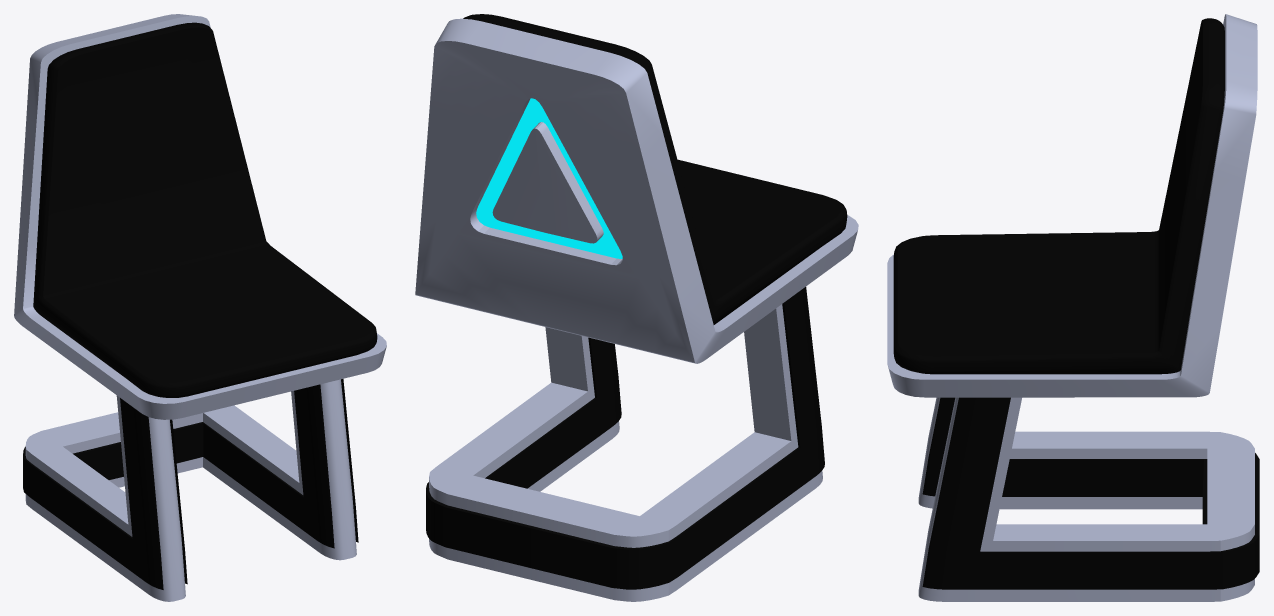
Rendered from chair.glb.
3 renders of one model, left to right at view 1: azimuth 30°, elevation 25°; view 2: azimuth 150°, elevation 25°; view 3: azimuth 270°, elevation 25°, orthographic. The views are drawn at different scales.
Parts seen in each view (by area): view 1: Cube.001, Cube.002, Cube.003, Cube; view 2: Cube, Cube.002, Cube.003, Cube.001; view 3: Cube.001, Cube.003, Cube.002, Cube.
Part boxes in pixels (x1,y1,x2,y2): Cube.001: (33, 22, 377, 397); Cube.002: (25, 379, 356, 601); Cube.003: (23, 379, 358, 589); Cube: (14, 14, 386, 419); Cube: (415, 18, 858, 363); Cube.002: (429, 304, 822, 601); Cube.003: (426, 287, 824, 589); Cube.001: (463, 14, 847, 324); Cube.001: (893, 18, 1224, 374); Cube.003: (922, 397, 1259, 589); Cube.002: (918, 397, 1254, 601); Cube: (887, 14, 1257, 397).
Bounding box in the file's own units: 1.36 × 2.37 × 1.61.
